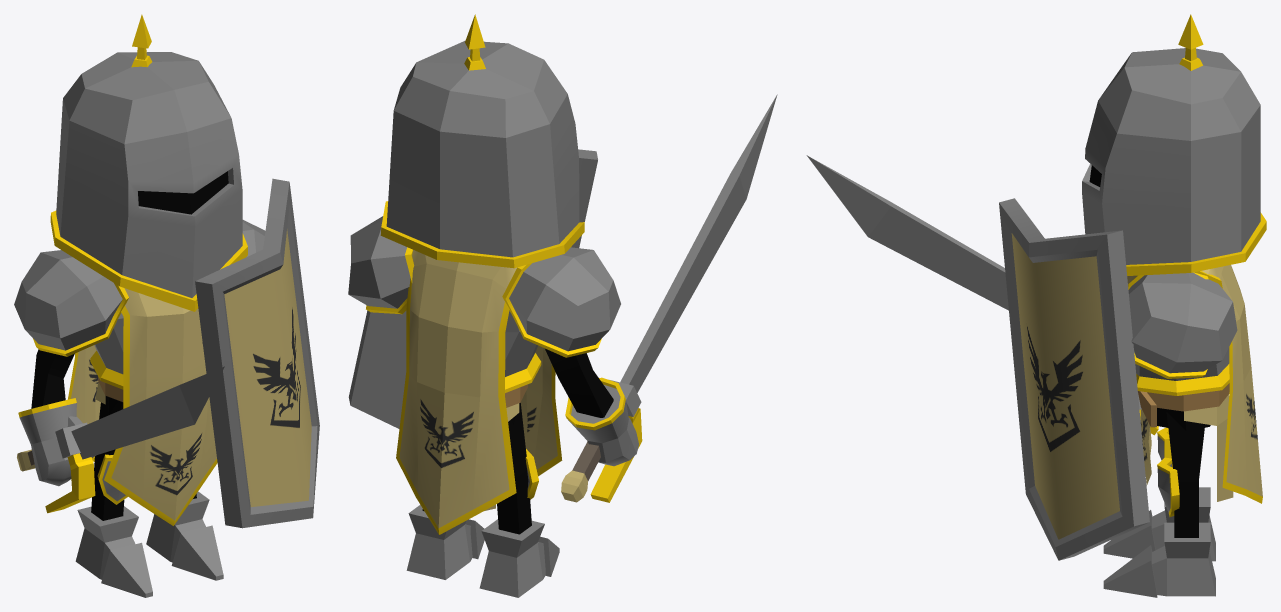
3 renders of one model, left to right at view 1: azimuth 30°, elevation 25°; view 2: azimuth 150°, elevation 25°; view 3: azimuth 270°, elevation 25°, orthographic. The views are drawn at different scales.
Parts seen in each view (by area): view 1: Soldier_76; view 2: Soldier_76; view 3: Soldier_76.
Part boxes in pixels (<box>): Soldier_76: <box>14,14,319,597</box>; Soldier_76: <box>348,14,777,597</box>; Soldier_76: <box>806,14,1266,597</box>.
Size of the model in its own units: 1.01 by 1.85 by 1.39.
Materials: 10 (1 with a texture image).
